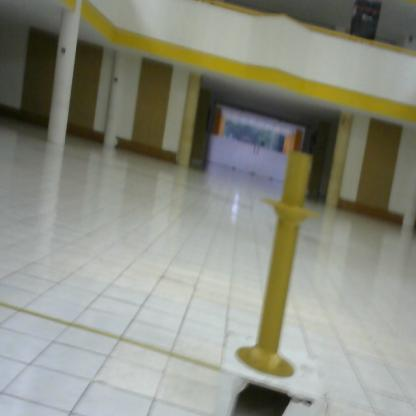pole: (233, 145, 330, 385)
